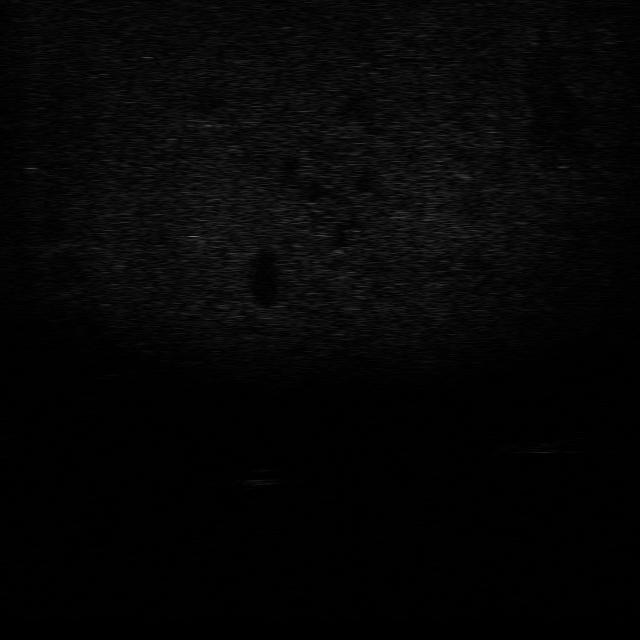ball: (240, 463, 282, 490)
human body: (500, 433, 588, 460)
